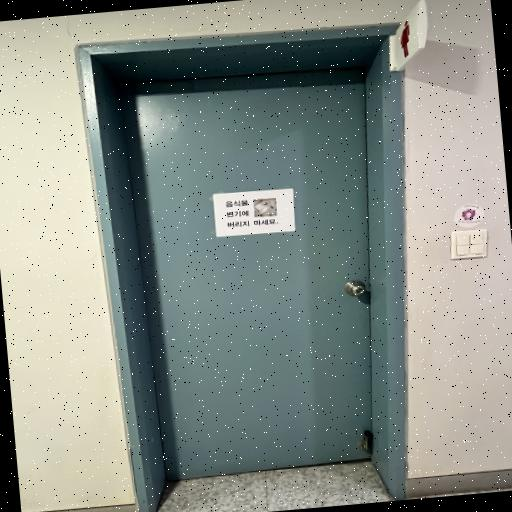door: (73, 23, 406, 512)
